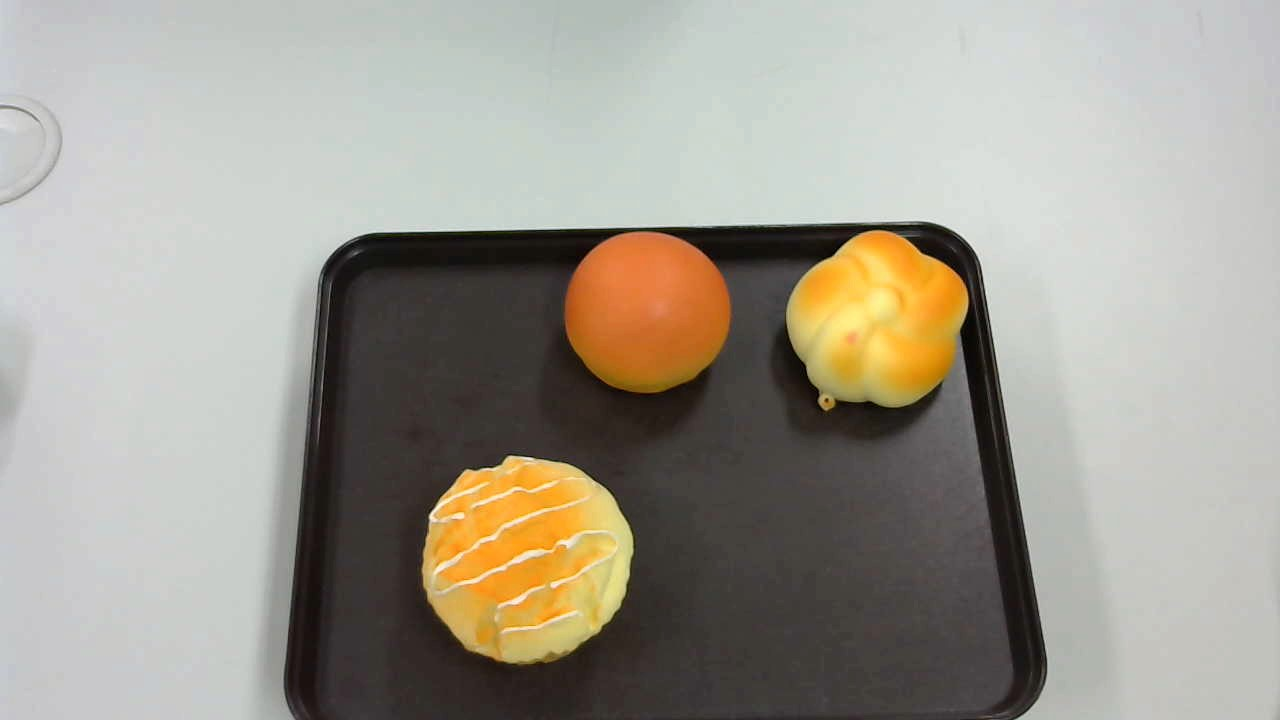bun: (562, 231, 731, 392)
cupcake: (421, 455, 634, 665)
twist bread: (785, 229, 968, 409)
